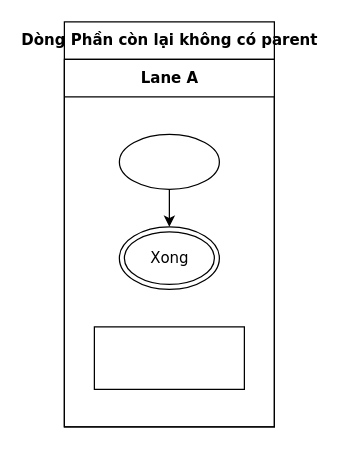
Image size: 339x449. Some labels were removed from this diagram. Here are the shapes that lost their labels. From the top down, the centre of each, then its label:
At point 168,161: "Vào".
At point 168,357: "Việc rời rạc".
